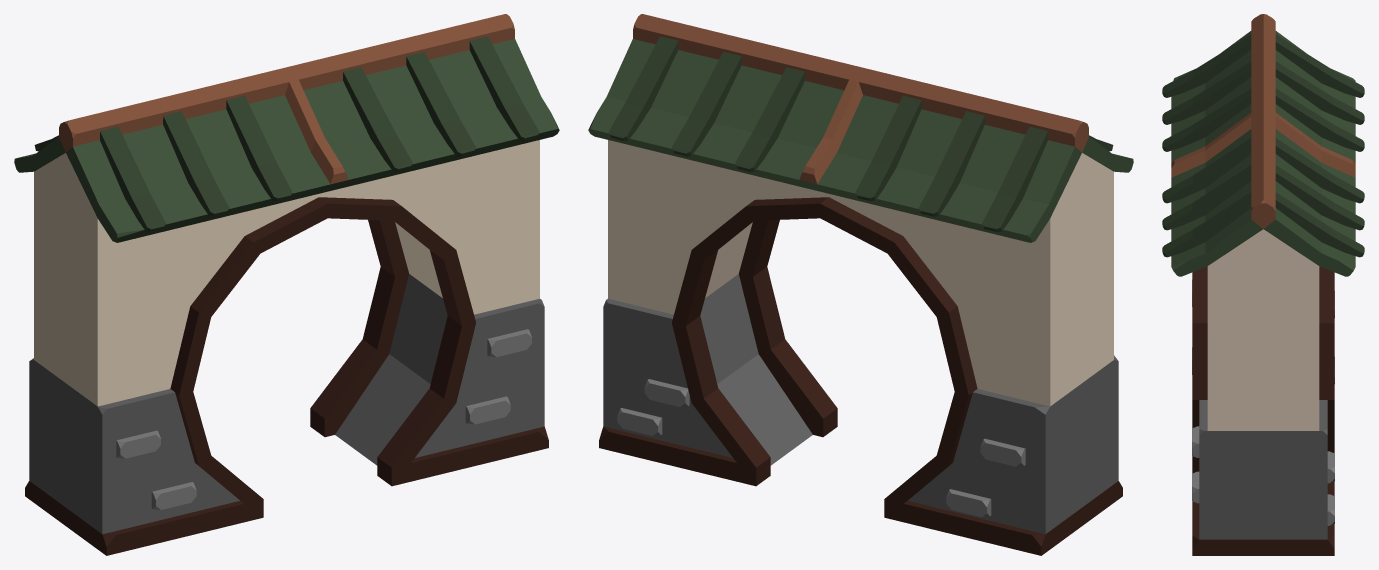
Rendered from GardenWall_Gate_1 Asia.fbx.
3 renders of one model, left to right at view 1: azimuth 30°, elevation 25°; view 2: azimuth 150°, elevation 25°; view 3: azimuth 270°, elevation 25°, orthographic. The views are drawn at different scales.
Parts seen in each view (by area): view 1: GardenWall_Gate_1; view 2: GardenWall_Gate_1; view 3: GardenWall_Gate_1.
Part boxes in pixels (<box>): GardenWall_Gate_1: <box>14,14,559,555</box>; GardenWall_Gate_1: <box>588,14,1133,555</box>; GardenWall_Gate_1: <box>1162,14,1364,555</box>.
Size of the model in its own units: 3.23 by 2.82 by 1.46.
